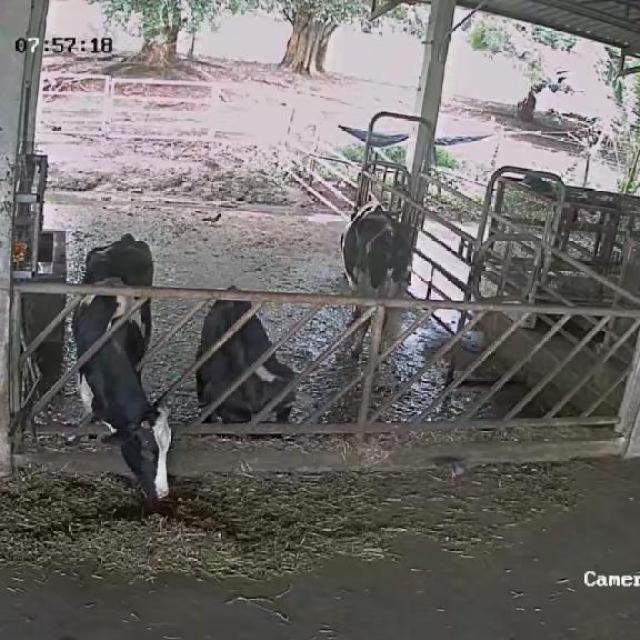feeding: (70, 230, 180, 508)
lying down: (188, 280, 300, 430)
